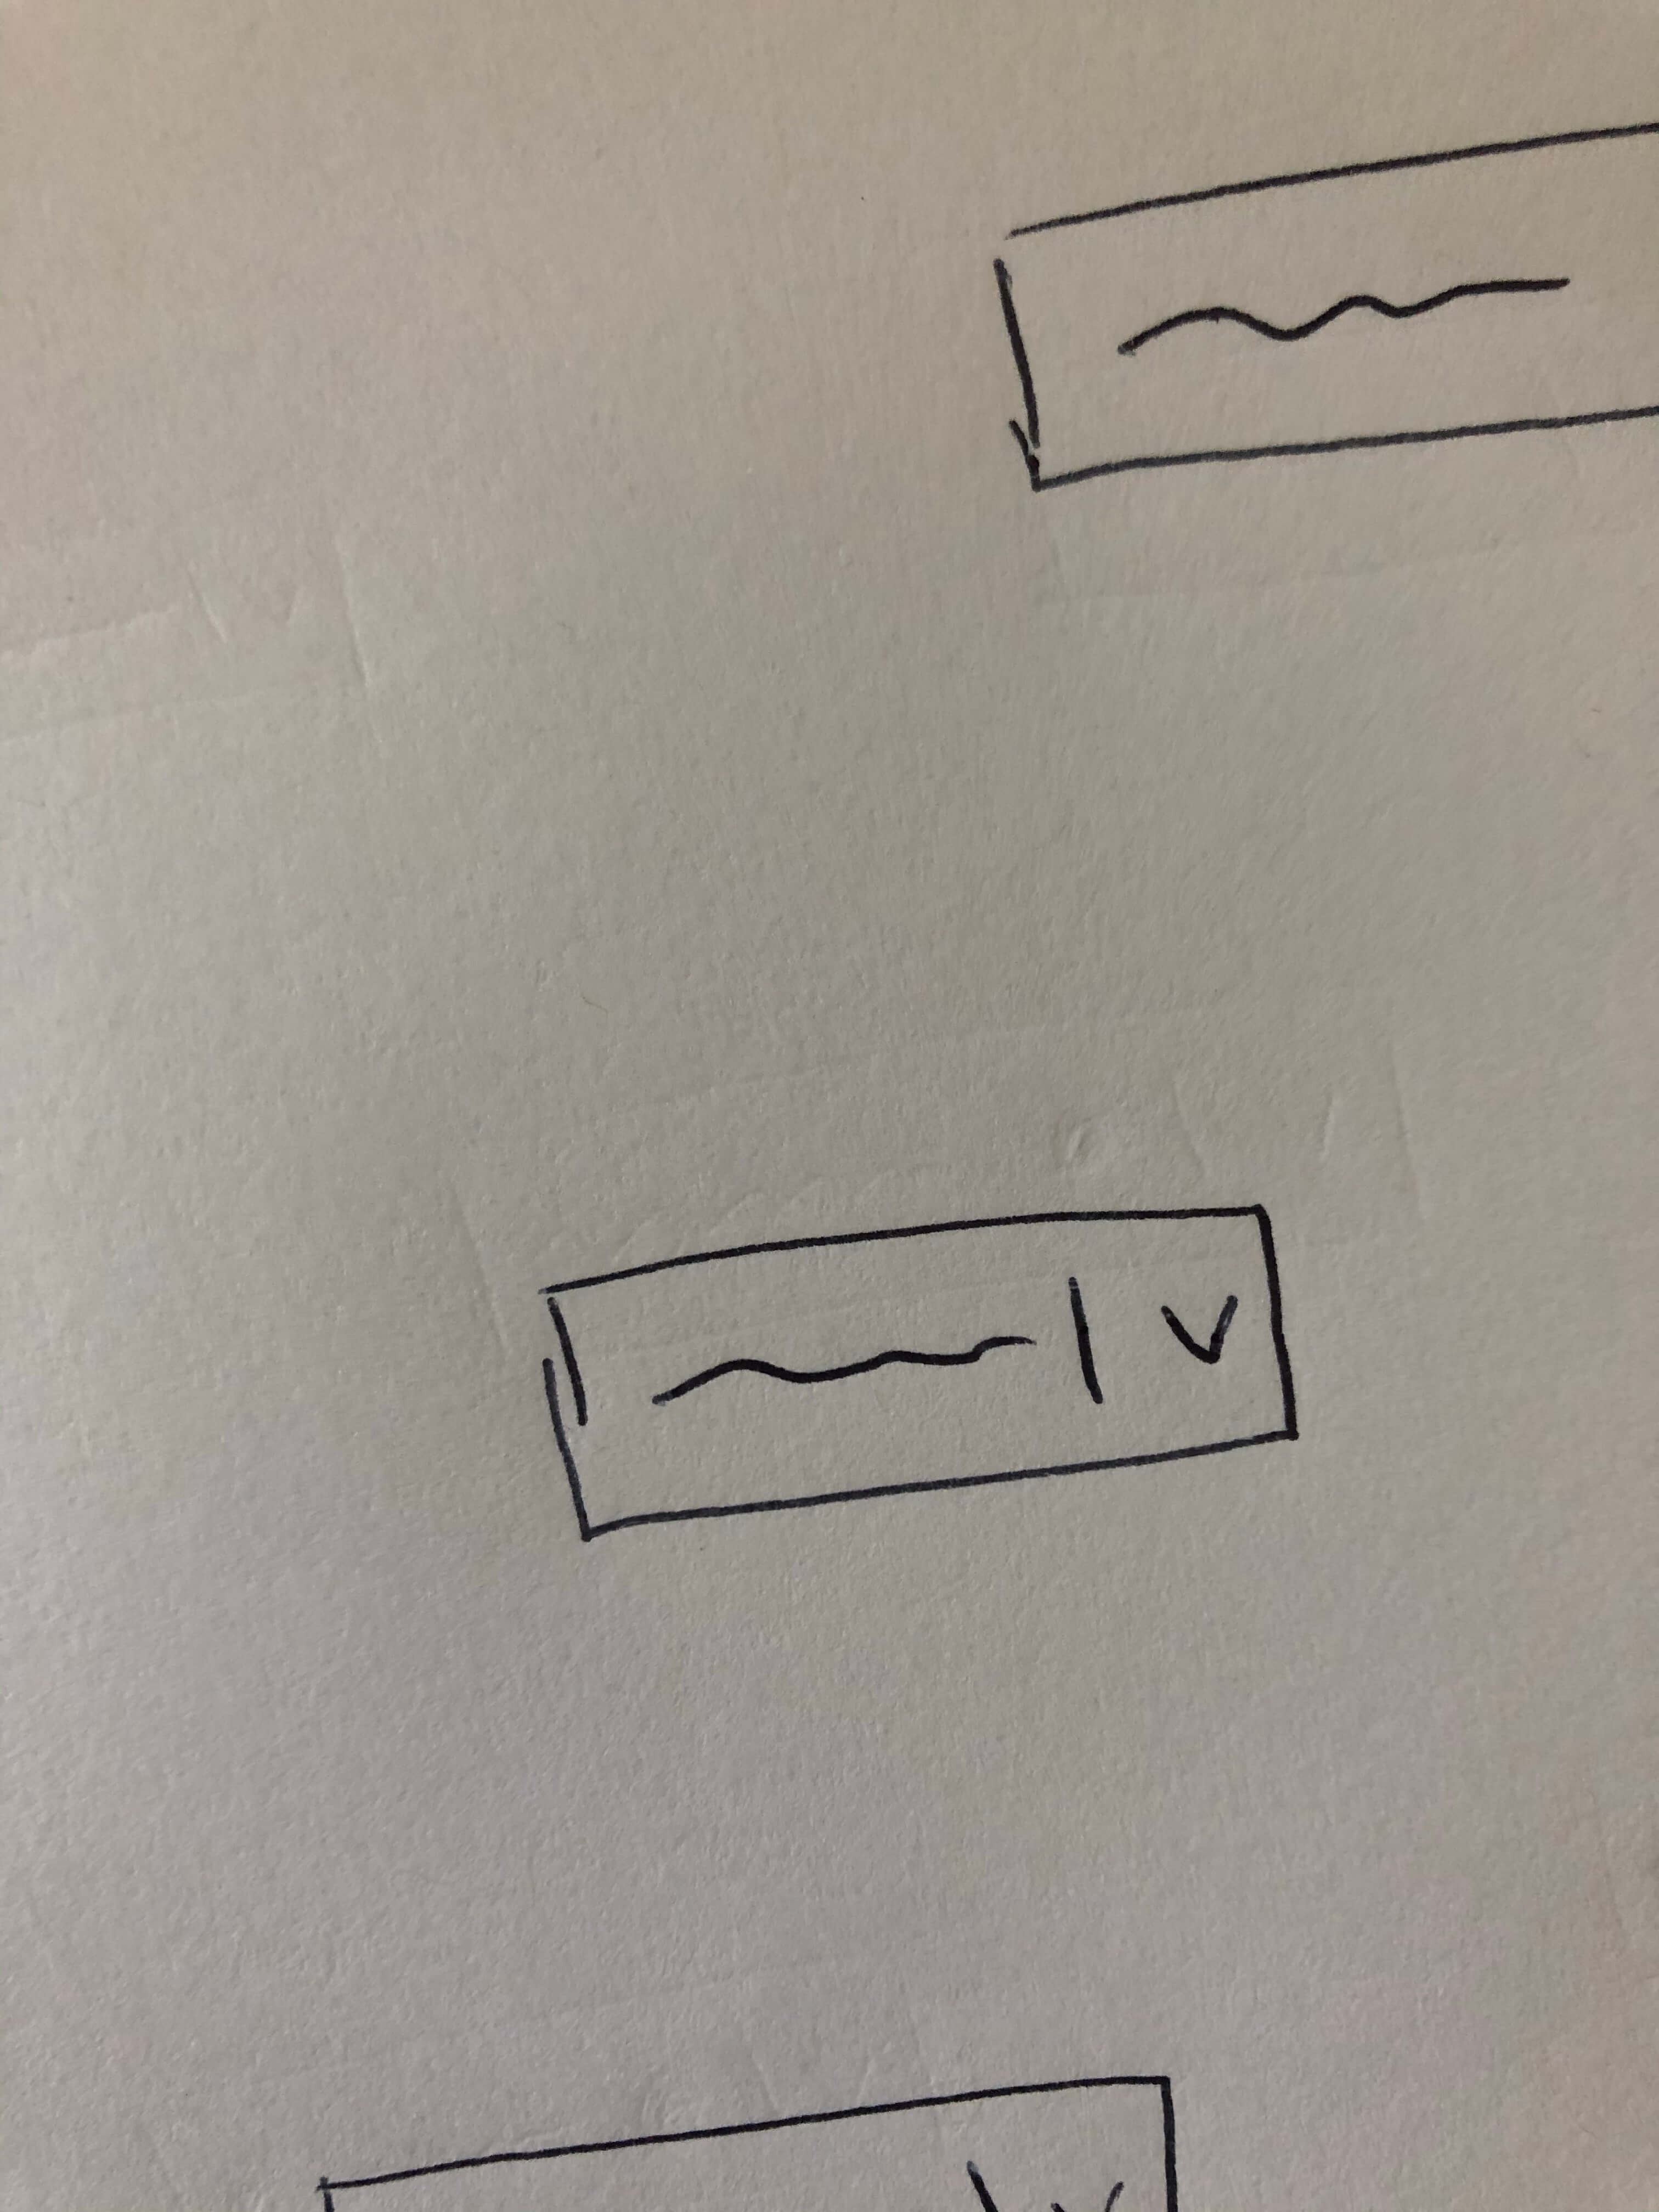split-button: (493, 1176, 1338, 1581)
